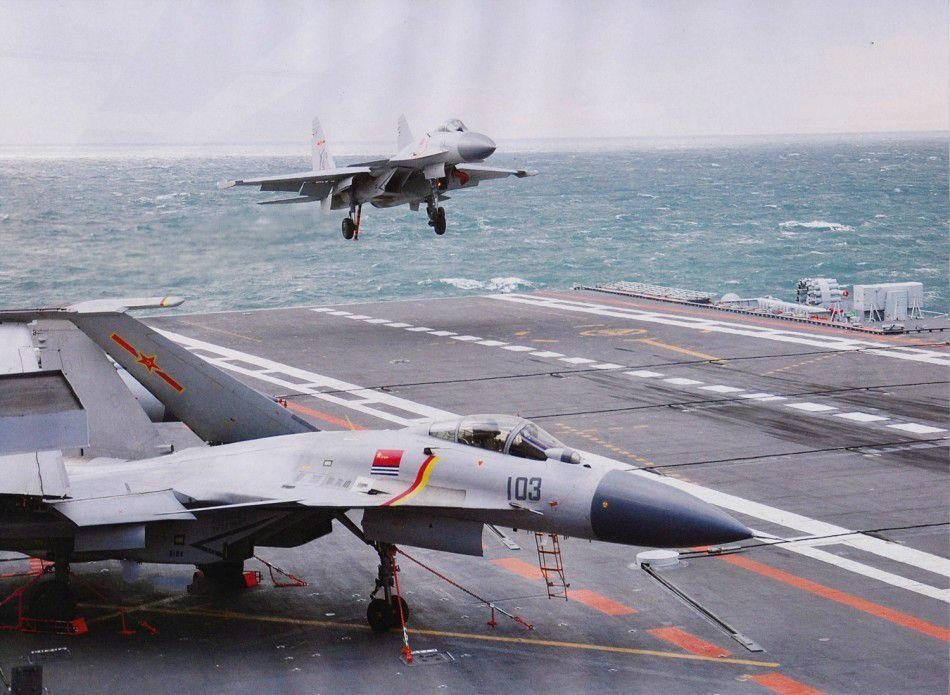airplane: (1, 277, 780, 564), (229, 100, 537, 254)
